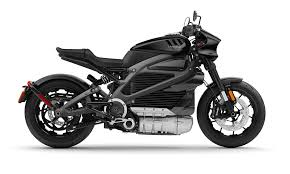motorcycle: (19, 10, 268, 147)
